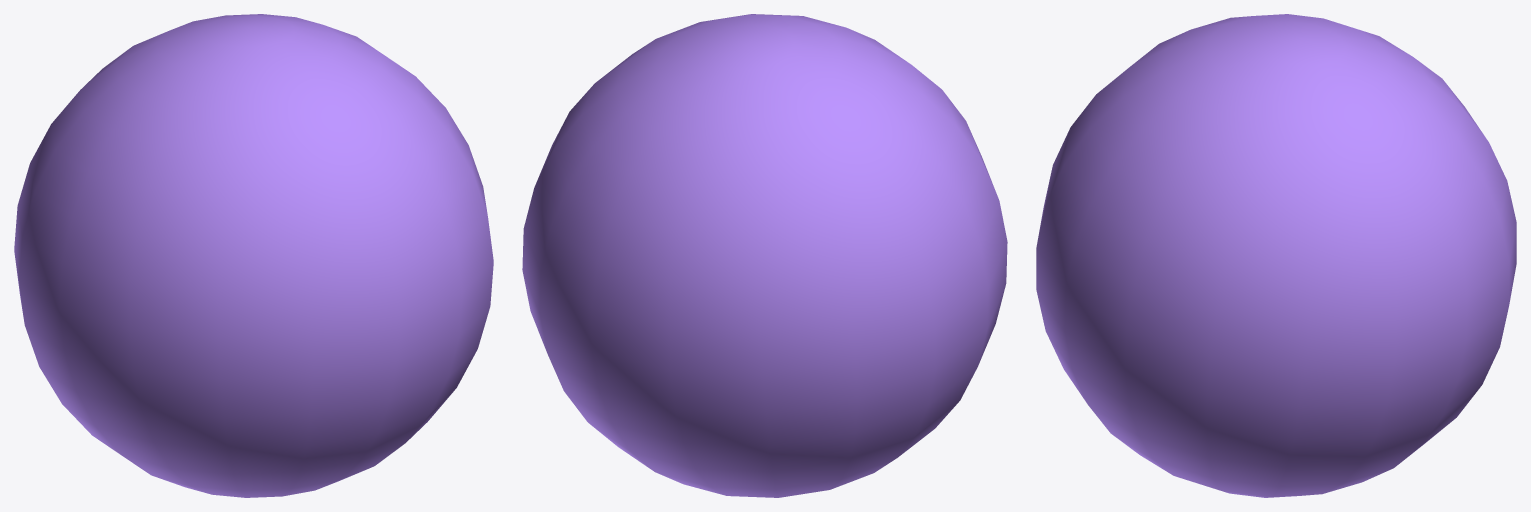
3 renders of one model, left to right at view 1: azimuth 30°, elevation 25°; view 2: azimuth 150°, elevation 25°; view 3: azimuth 270°, elevation 25°, orthographic.
Parts seen in each view (by area): view 1: orb3.005; view 2: orb3.005; view 3: orb3.005.
Part boxes in pixels (left/top/right/bottom): orb3.005: left=14, top=14, right=493, bottom=497; orb3.005: left=522, top=14, right=1007, bottom=497; orb3.005: left=1036, top=14, right=1516, bottom=497.
Size of the model in its own units: 0.397 by 0.3982 by 0.3954.
